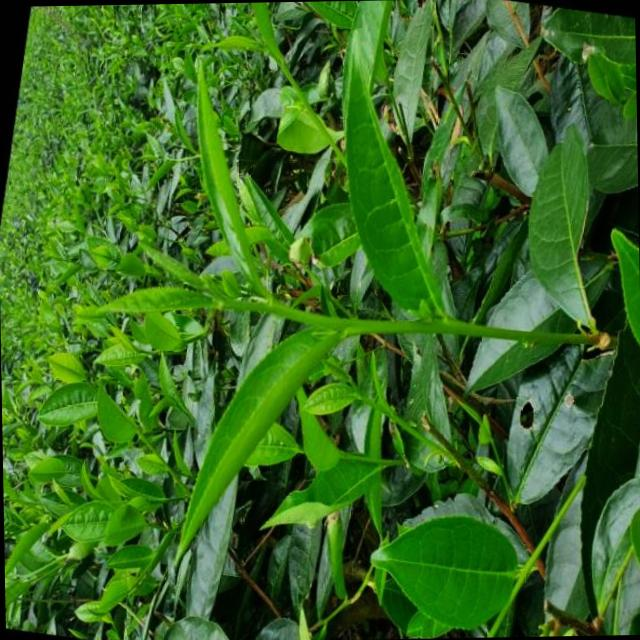Stem: (268, 300, 281, 311), (280, 62, 286, 68), (151, 350, 155, 353)
